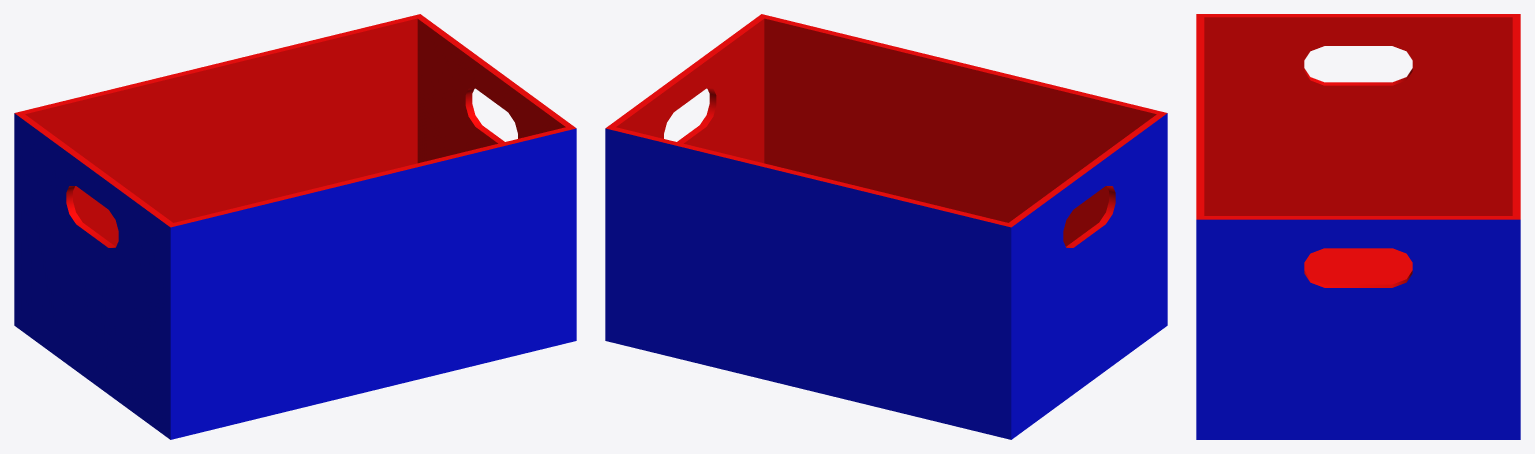
Rendered from Her_emptyfilebox_ZW.fbx.
The picture shows the model from 3 angles, left to right: view 1: azimuth 30°, elevation 25°; view 2: azimuth 150°, elevation 25°; view 3: azimuth 270°, elevation 25°; orthographic projection. The views are drawn at different scales.
Visible parts, largest first — view 1: Box001; view 2: Box001; view 3: Box001.
Part boxes in pixels (left/top/right/bottom): Box001: left=14, top=14, right=576, bottom=439; Box001: left=605, top=14, right=1167, bottom=439; Box001: left=1196, top=14, right=1520, bottom=439.
Bounding box in the file's own units: 30 × 15 × 20.
